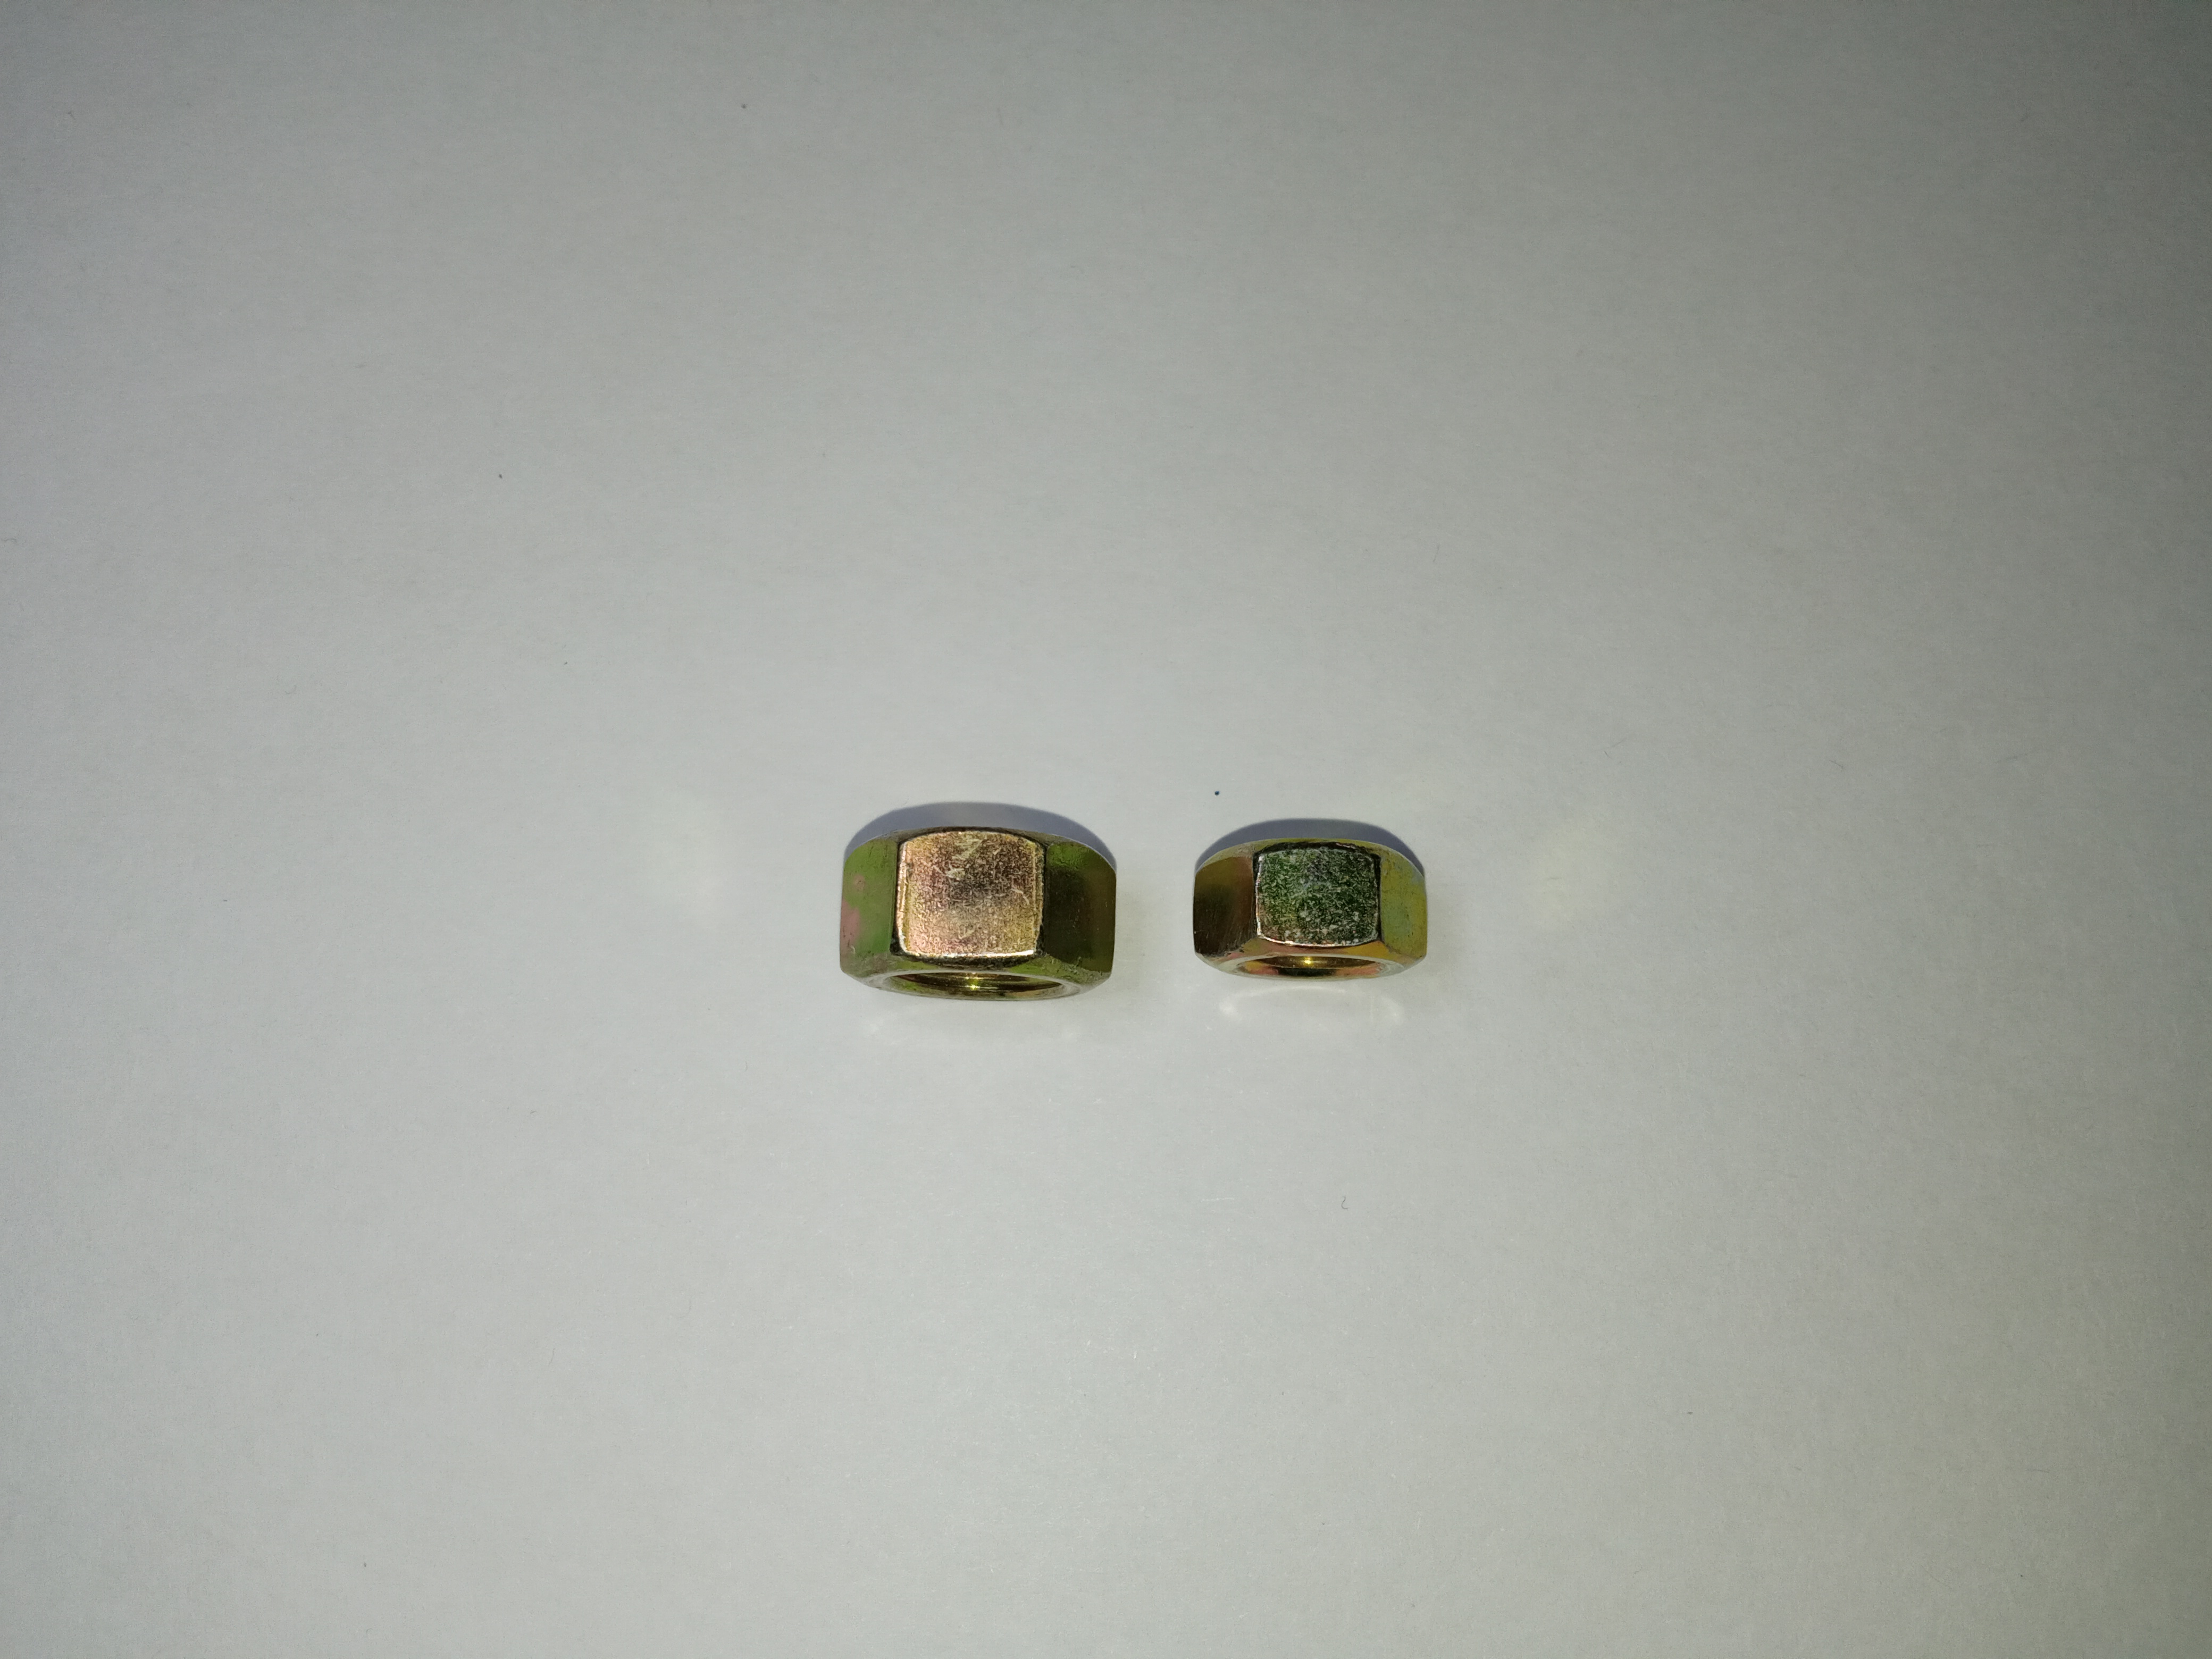m10: (833, 828, 1132, 997)
m8: (1190, 833, 1449, 993)
